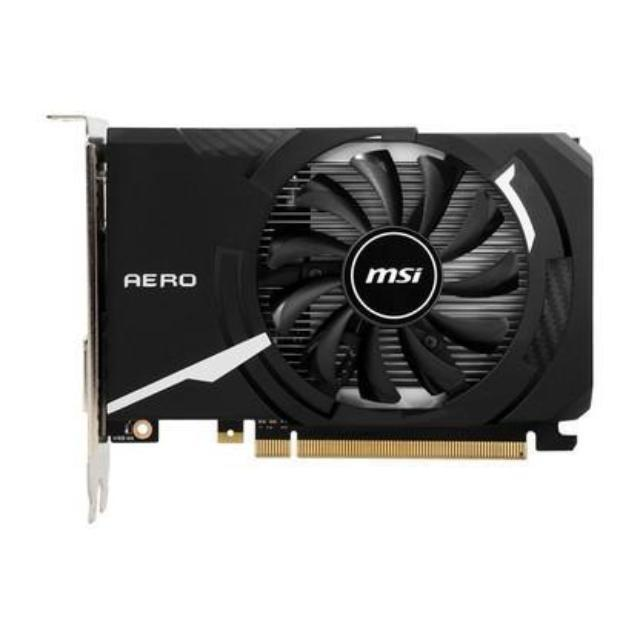GPU: (70, 101, 608, 484)
